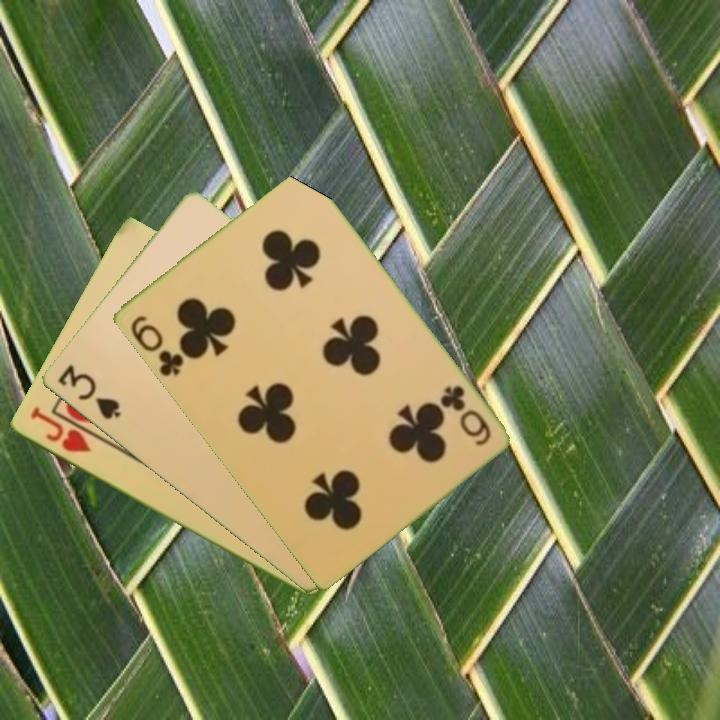3s: (53, 361, 123, 423)
6c: (126, 311, 186, 379), (436, 381, 494, 449)
Jh: (26, 404, 94, 456)
